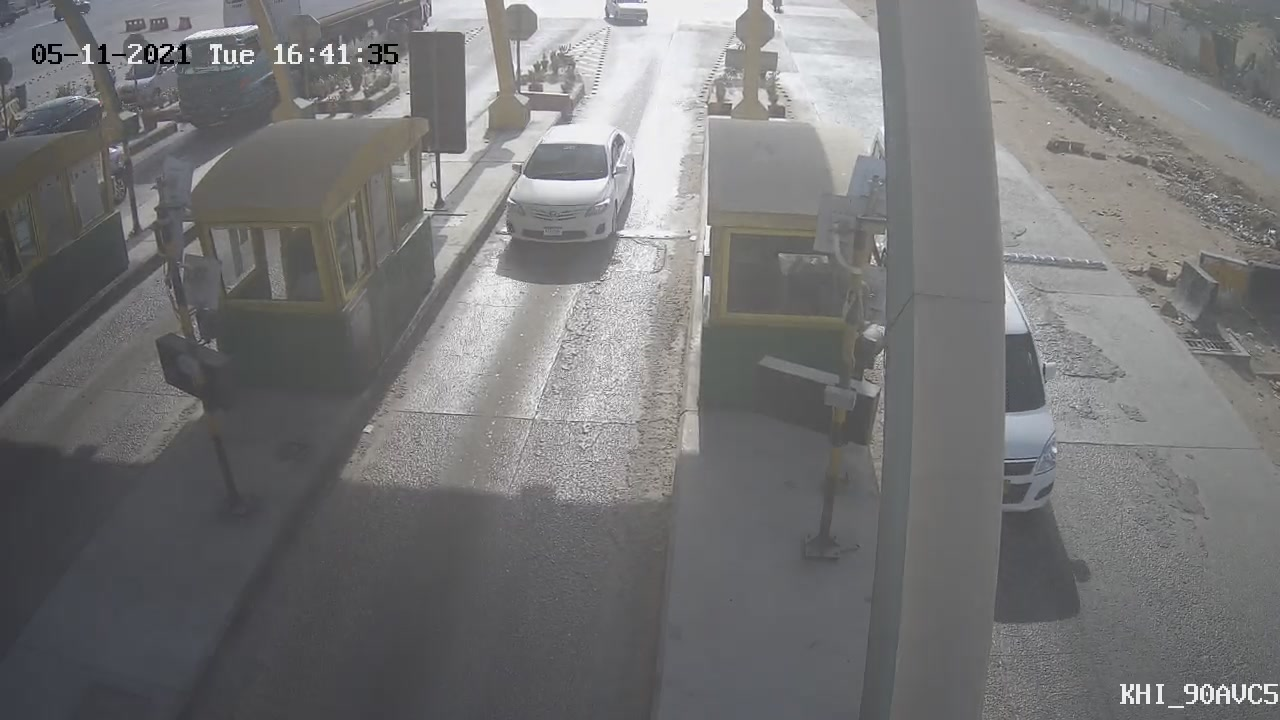F1: (490, 112, 648, 266)
